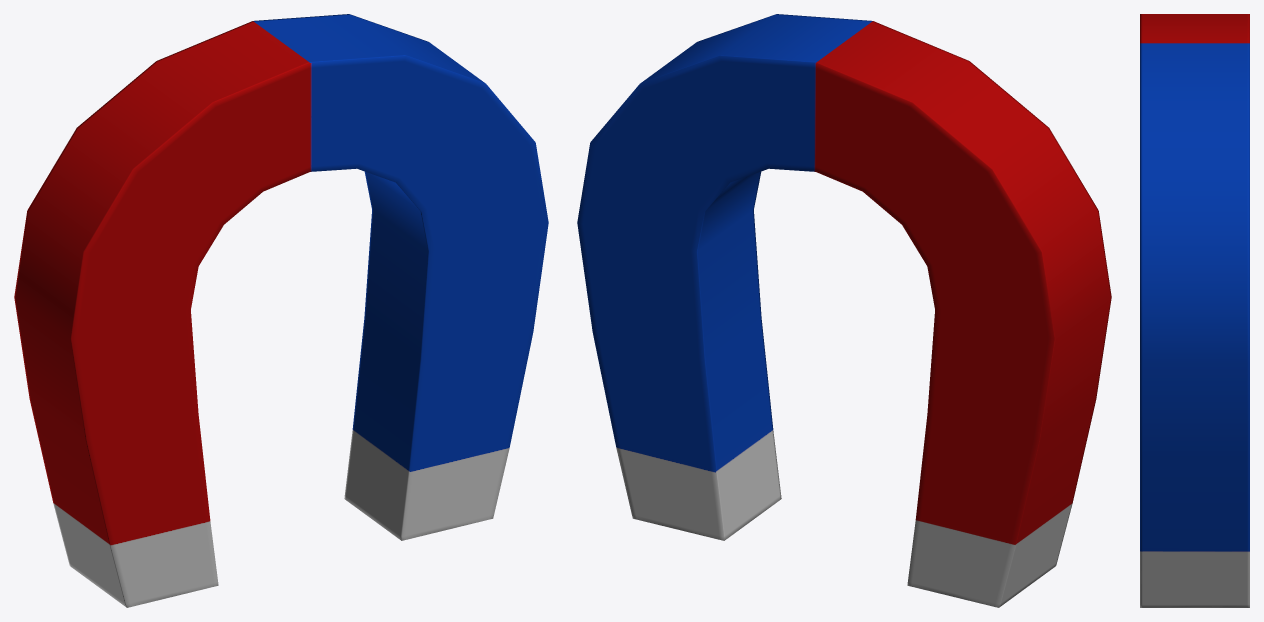
Rendered from Magnet.fbx.
The picture shows the model from 3 angles, left to right: view 1: azimuth 30°, elevation 25°; view 2: azimuth 150°, elevation 25°; view 3: azimuth 270°, elevation 25°; orthographic projection. The views are drawn at different scales.
Visible parts, largest first — view 1: Magnet; view 2: Magnet; view 3: Magnet.
Boxes of the visible parts, box(x1,y1,x2,y2) form: Magnet: box(14, 14, 548, 607); Magnet: box(577, 14, 1111, 607); Magnet: box(1140, 14, 1249, 607).
Bounding box in the file's own units: 8.97 × 8.99 × 1.87.
